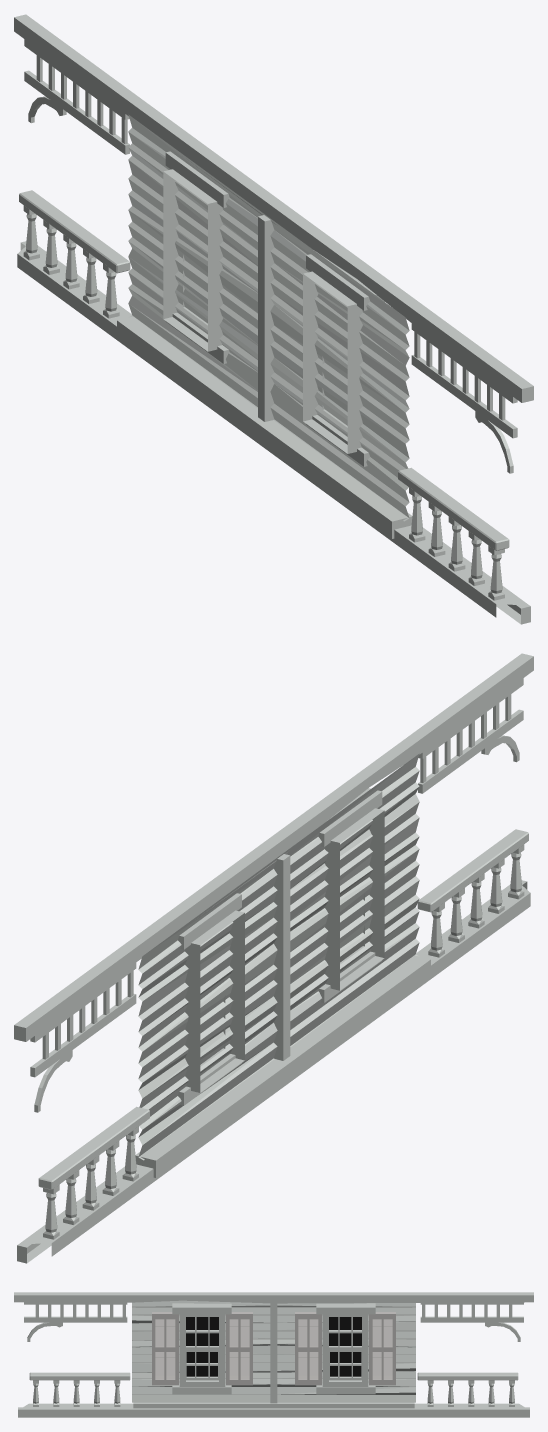
File: SM_Bld_Mansion_End_Flat_01.glb
The picture shows the model from 3 angles, top to bottom: view 1: azimuth 30°, elevation 25°; view 2: azimuth 150°, elevation 25°; view 3: azimuth 270°, elevation 25°; orthographic projection. The views are drawn at different scales.
Visible parts, largest first — view 1: SM_Bld_Mansion_End_Flat_01_part00; view 2: SM_Bld_Mansion_End_Flat_01_part00; view 3: SM_Bld_Mansion_End_Flat_01_part00.
Part boxes in pixels (left/top/right/bottom): SM_Bld_Mansion_End_Flat_01_part00: left=14, top=14, right=533, bottom=624; SM_Bld_Mansion_End_Flat_01_part00: left=14, top=653, right=533, bottom=1263; SM_Bld_Mansion_End_Flat_01_part00: left=14, top=1292, right=533, bottom=1417.
Bounding box in the file's own units: 0.4078 × 2.95 × 11.35.
1 material, 1 textured.
